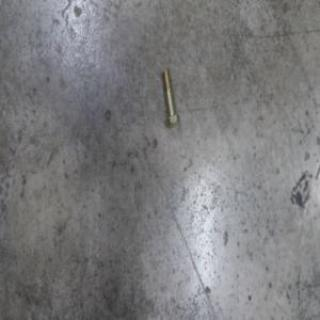Bolttrack_idkeyframe: (161, 68, 179, 128)
